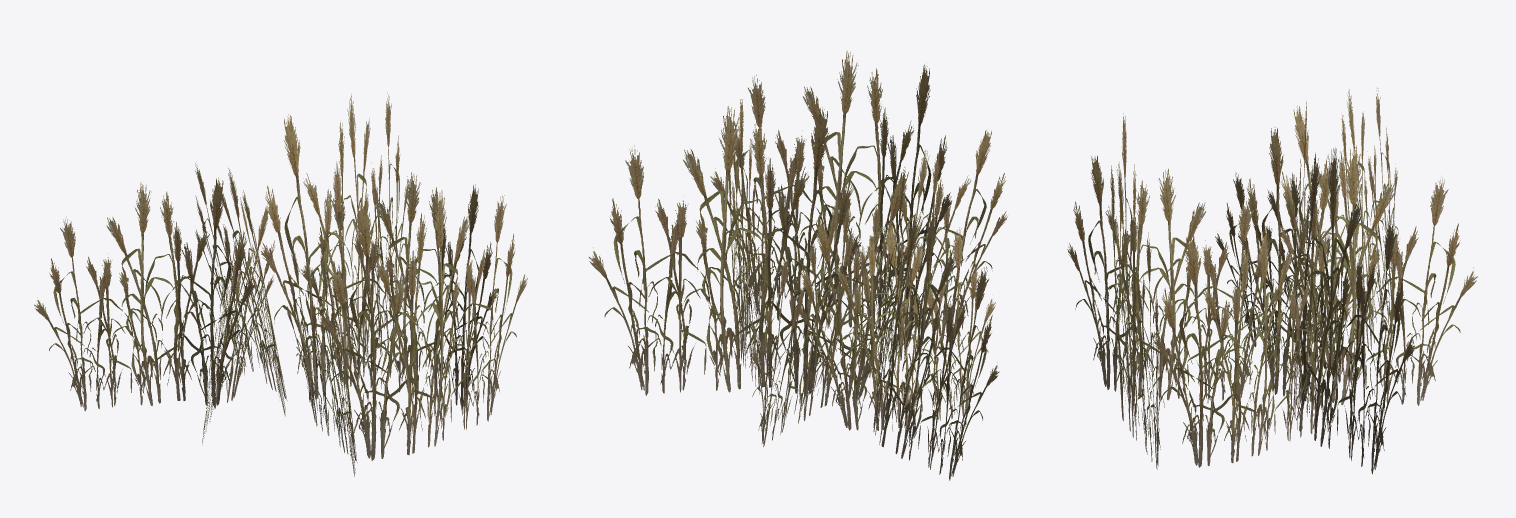
The model's file is bg_anh_foliage_crops04_sm_ksy.FBX.
3 views of the same model, side by side, from view 1: azimuth 30°, elevation 25°; view 2: azimuth 150°, elevation 25°; view 3: azimuth 270°, elevation 25° (orthographic). The views are drawn at different scales.
Visible parts, largest first — view 1: bg_anh_foliage_crops04_sm_ksy; view 2: bg_anh_foliage_crops04_sm_ksy; view 3: bg_anh_foliage_crops04_sm_ksy.
Boxes of the visible parts, left/top/right/bottom form: bg_anh_foliage_crops04_sm_ksy: left=34, top=93, right=527, bottom=476; bg_anh_foliage_crops04_sm_ksy: left=589, top=51, right=1007, bottom=480; bg_anh_foliage_crops04_sm_ksy: left=1067, top=88, right=1477, bottom=473.
Size of the model in its own units: 221 by 154 by 189.
